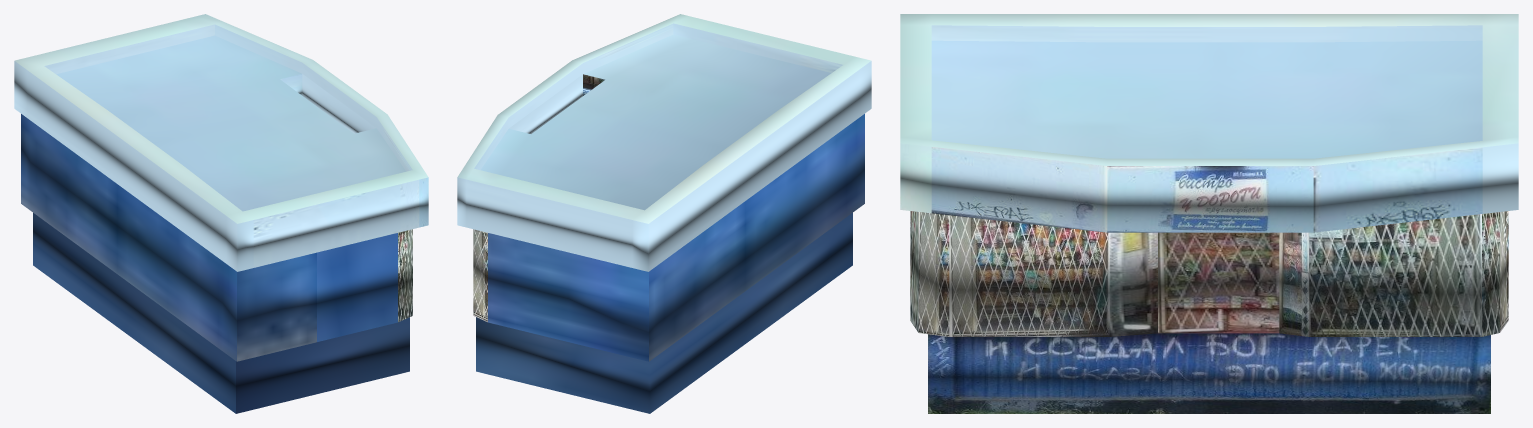
File: larek.glb
3 views of the same model, side by side, from view 1: azimuth 30°, elevation 25°; view 2: azimuth 150°, elevation 25°; view 3: azimuth 270°, elevation 25° (orthographic). The views are drawn at different scales.
Parts seen in each view (by area): view 1: Cube.002, Cube.003, Cube.001; view 2: Cube.002, Cube.003, Cube.001; view 3: Cube.002, Cube.003, Cube.001.
Part boxes in pixels (x1,y1,x2,y2): Cube.002: (14, 14, 428, 271); Cube.003: (21, 114, 412, 361); Cube.001: (33, 213, 409, 413); Cube.002: (457, 14, 871, 271); Cube.003: (473, 114, 864, 361); Cube.001: (476, 213, 852, 413); Cube.002: (900, 14, 1518, 232); Cube.003: (910, 211, 1508, 336); Cube.001: (928, 333, 1490, 413).
Bounding box in the file's own units: 4.23 × 3.58 × 7.27.
Materials: 3 (3 with a texture image).
